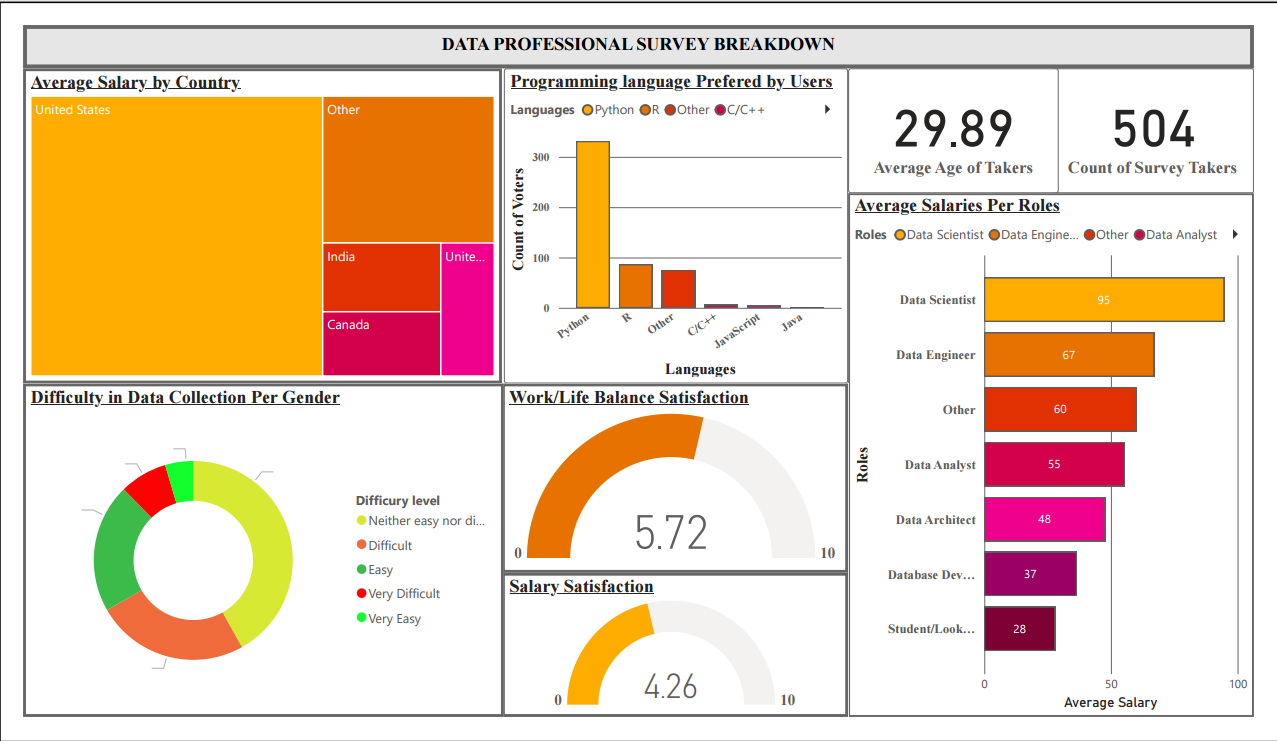

The page's visual inventory and layout, read from the dashboard file:
{"tool":"powerbi","page":{"name":"Page 1","canvas":[1280,720],"ordinal":0},"visuals":[{"type":"textbox","box":[0,0,1280.3,44.8],"z":0},{"type":"card","fields":{"Values":["Count(Data Professional Survey (2).Unique ID)"]},"box":[1069.1,44.6,211.2,130.9],"z":1000},{"type":"card","fields":{"Values":["Avg(Data Professional Survey (2).Q10 - Current Age)"]},"box":[858,44.6,218.6,130.9],"z":2000},{"type":"barChart","title":"Average Salaries Per Roles","fields":{"Category":["Data Professional Survey (2).Q1 - Which Title Best Fits your Current Role?.1"],"Y":["Avg(Data Professional Survey (2).Average Salary)"],"Series":["Data Professional Survey (2).Q1 - Which Title Best Fits your Current Role?.1"]},"box":[858,175.5,422.3,544.2],"z":3000},{"type":"columnChart","title":"Programming language Prefered by Users","fields":{"Category":["Data Professional Survey (2).Q5 - Favorite Programming Language.1"],"Y":["CountNonNull(Data Professional Survey (2).Unique ID)"],"Series":["Data Professional Survey (2).Q5 - Favorite Programming Language.1"]},"box":[499.6,44.6,358.4,328.6],"z":4000},{"type":"treemap","fields":{"Group":["Data Professional Survey (2).Q11 - Which Country do you live in?.1"],"Values":["Sum(Data Professional Survey (2).Average Salary)"]},"box":[0,44.6,498.1,328.6],"z":5000},{"type":"gauge","title":"Salary Satisfaction","fields":{"Y":["Avg(Data Professional Survey (2).Q6 - How Happy are you in your Current Position with the following? (Salary))"],"MinValue":["Min(Data Professional Survey (2).Q6 - How Happy are you in your Current Position with the following? (Salary))"],"MaxValue":["Max(Data Professional Survey (2).Q6 - How Happy are you in your Current Position with the following? (Salary))1"]},"box":[498.1,569.5,359.9,150.2],"z":5001},{"type":"gauge","title":"Work/Life Balance Satisfaction","fields":{"Y":["Avg(Data Professional Survey (2).Q6 - How Happy are you in your Current Position with the following? (Work/Life Balance)"],"MinValue":["Min(Data Professional Survey (2).Q6 - How Happy are you in your Current Position with the following? (Work/Life Balance)"],"MaxValue":["Max(Data Professional Survey (2).Q6 - How Happy are you in your Current Position with the following? (Work/Life Balance)"]},"box":[498.1,373.2,359.9,196.3],"z":5002},{"type":"donutChart","title":"Difficulty in Data Collection Per Gender","fields":{"Category":["Data Professional Survey (2).Q7 - How difficult was it for you to break into Data?"],"Y":["CountNonNull(Data Professional Survey (2).Q9 - Male/Female?)"]},"box":[0,373.2,499.6,346.5],"z":5003}]}

Visuals, with their boxes in screenshot pixels (x1, y1, x2, y2):
textbox: <box>23,27,1238,69</box>
card - Count(Data Professional Survey (2).Unique ID): <box>1038,69,1238,193</box>
card - Avg(Data Professional Survey (2).Q10 - Current Age): <box>838,69,1045,193</box>
"Average Salaries Per Roles" barChart: <box>838,193,1238,710</box>
"Programming language Prefered by Users" columnChart: <box>497,69,838,381</box>
treemap - Data Professional Survey (2).Q11 - Which Country do you live in?.1 x Sum(Data Professional Survey (2).Average Salary): <box>23,69,496,381</box>
"Salary Satisfaction" gauge: <box>496,567,838,710</box>
"Work/Life Balance Satisfaction" gauge: <box>496,381,838,567</box>
"Difficulty in Data Collection Per Gender" donutChart: <box>23,381,497,710</box>
